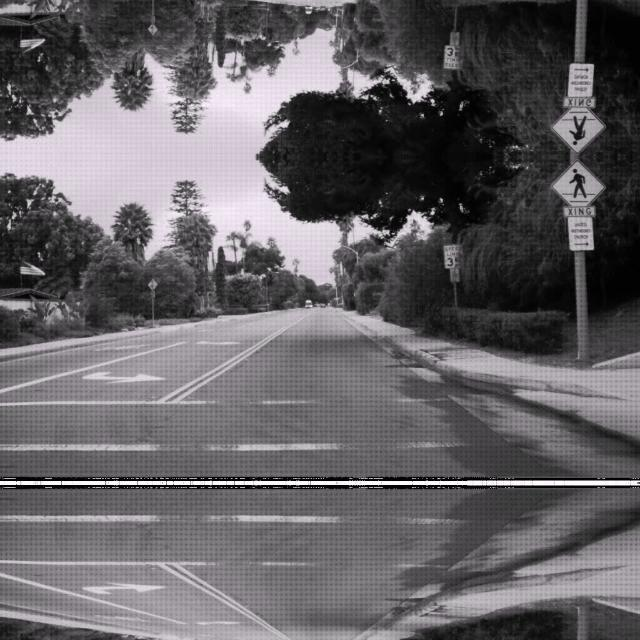pedestrianCrossing: (550, 158, 604, 215), (550, 98, 604, 154)
